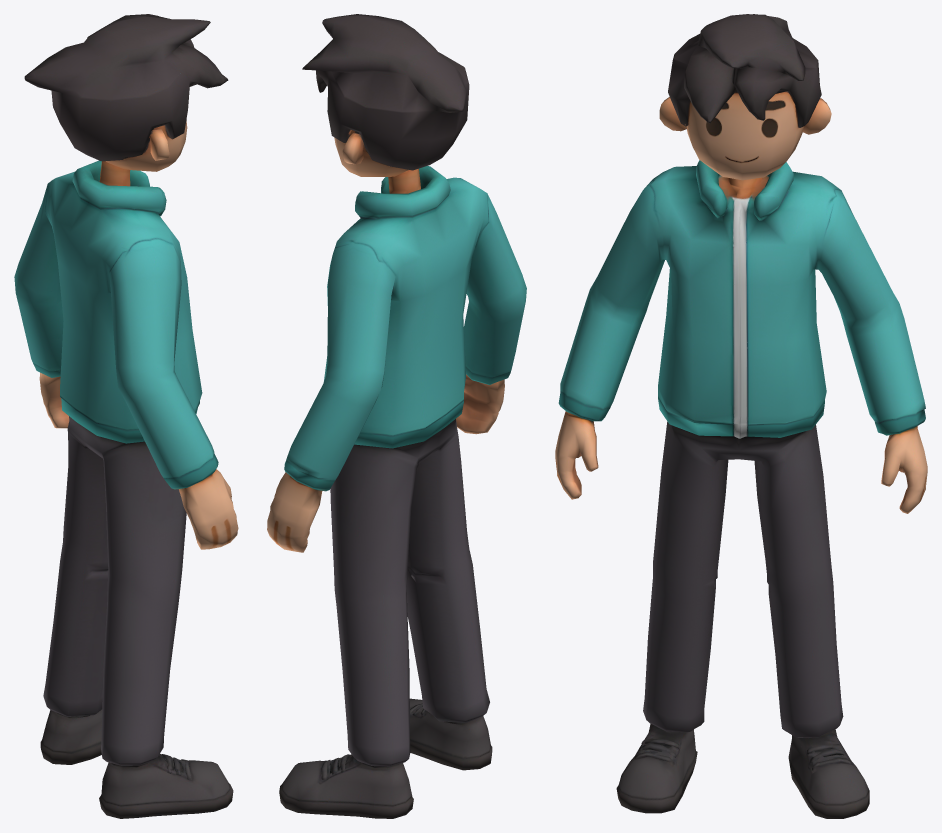
File: character-default.glb
3 renders of one model, left to right at view 1: azimuth 30°, elevation 25°; view 2: azimuth 150°, elevation 25°; view 3: azimuth 270°, elevation 25°, orthographic. The views are drawn at different scales.
Parts seen in each view (by area): view 1: tripo_node_kodyurd-model-10____________________; view 2: tripo_node_kodyurd-model-10____________________; view 3: tripo_node_kodyurd-model-10____________________.
Boxes of the visible parts, x1=… form: tripo_node_kodyurd-model-10____________________: x1=14, y1=14, x2=238, y2=818; tripo_node_kodyurd-model-10____________________: x1=267, y1=14, x2=526, y2=818; tripo_node_kodyurd-model-10____________________: x1=555, y1=14, x2=927, y2=818.
Bounding box in the file's own units: 0.2363 × 0.998 × 0.4395.
Materials: 1 (1 with a texture image).
